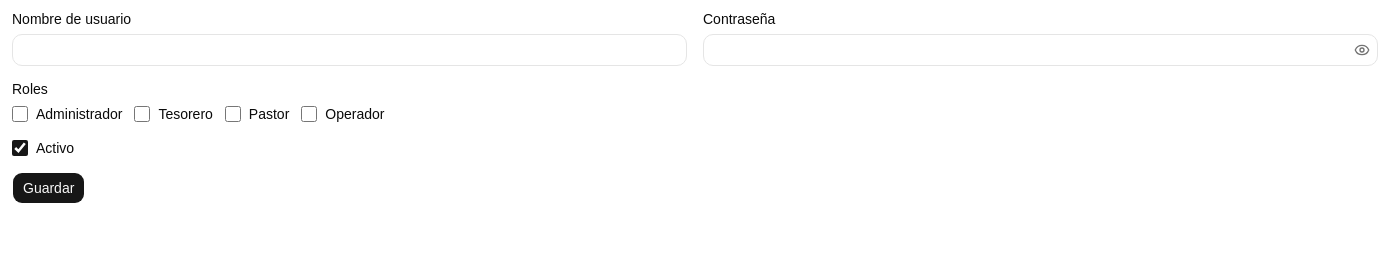
Test case: UserForm — create mode › shows validation errors on empty submit
Click the button "Guardar": (49,188) [12,172,85,204]
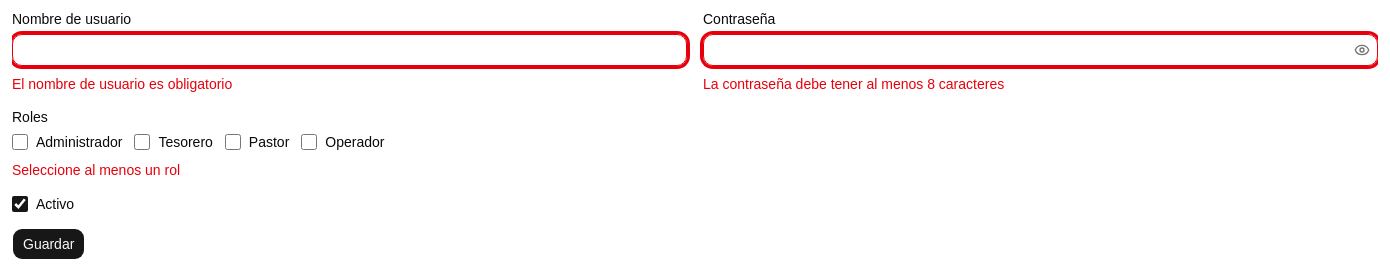
Check: the text "El nombre de usuario es obligatorio" is shown, box [12,76,232,92]
Check: the text "La contraseña debe tener al menos 8 caracteres" is shown, box [703,76,1004,92]
Check: the text "Seleccione al menos un rol" is shown, box [12,162,180,178]
